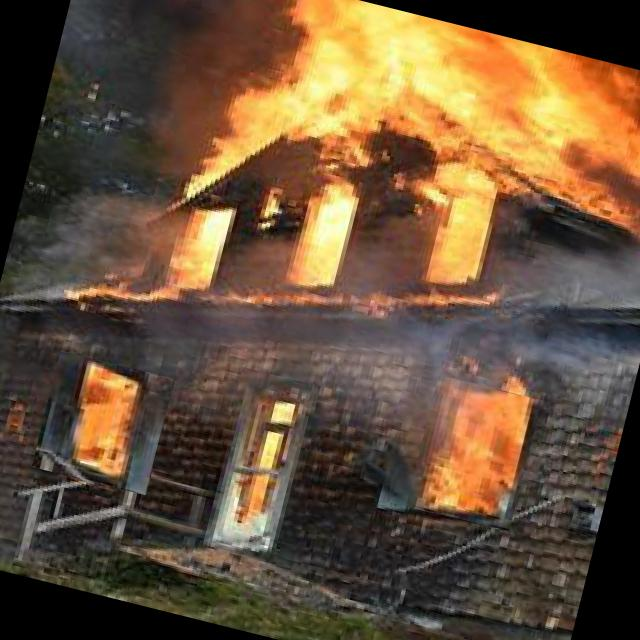fire: (106, 0, 640, 372), (406, 374, 542, 531), (31, 350, 175, 495)
